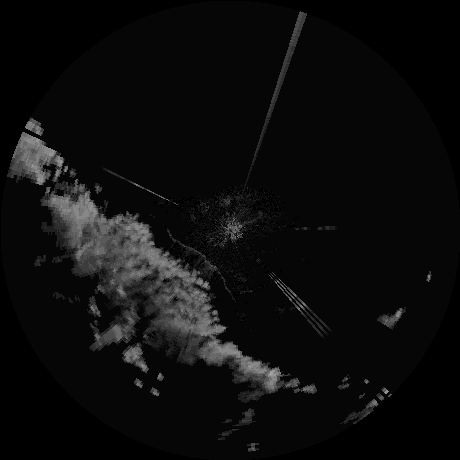frontgust: (167, 229, 235, 292)
